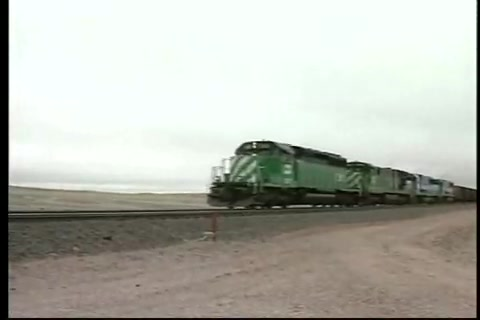train: (206, 140, 480, 213)
